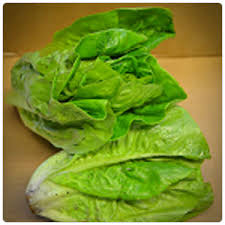lettuce: (29, 35, 198, 215)
